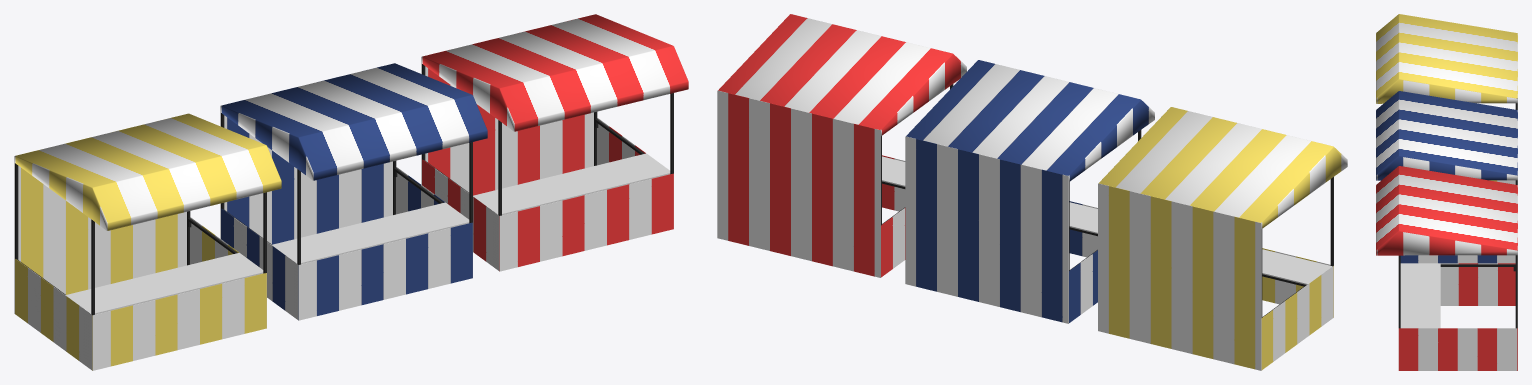
Rendered from Stall_model.fbx.
3 renders of one model, left to right at view 1: azimuth 30°, elevation 25°; view 2: azimuth 150°, elevation 25°; view 3: azimuth 270°, elevation 25°, orthographic. The views are drawn at different scales.
Parts seen in each view (by area): view 1: banner.005, banner, banner.008, banner.003, banner.001, banner.006, banner.004, banner.002, banner.007, table.001, table, table.002 (+4 smaller); view 2: banner.002, banner.007, banner.004, banner.005, banner, banner.008, banner.003, banner.001, banner.006, table.001, table, table.002; view 3: banner.008, banner.005, banner, banner.006, table.002, banner.001, Cube.032, Cube.031, Cube.030, banner.007.
Boxes of the visible parts, x1,y1,x2,y2 form: banner.005: (14, 113, 281, 230); banner: (220, 63, 487, 180); banner.008: (421, 14, 688, 131); banner.003: (15, 217, 266, 370); banner.001: (221, 166, 472, 320); banner.006: (422, 117, 673, 271); banner.004: (14, 156, 186, 313); banner.002: (220, 63, 395, 244); banner.007: (421, 14, 596, 195); table.001: (65, 252, 263, 314); table: (272, 202, 469, 264); table.002: (473, 153, 670, 215); banner.002: (905, 136, 1068, 323); banner.007: (717, 90, 880, 277); banner.004: (1098, 183, 1261, 370); banner.005: (1099, 107, 1347, 228); banner: (906, 60, 1154, 181); banner.008: (718, 14, 966, 135); banner.003: (1261, 248, 1333, 369); banner.001: (1069, 201, 1097, 322); banner.006: (881, 155, 905, 277); table.001: (1262, 249, 1332, 284); table: (1069, 202, 1097, 233); table.002: (882, 156, 905, 186); banner.008: (1376, 166, 1517, 255); banner.005: (1376, 14, 1517, 103); banner: (1376, 91, 1517, 180); banner.006: (1398, 263, 1517, 370); table.002: (1400, 263, 1440, 328); banner.001: (1400, 255, 1515, 263); Cube.032: (1440, 264, 1515, 271); Cube.031: (1515, 255, 1517, 328); Cube.030: (1398, 255, 1400, 328); banner.007: (1517, 185, 1517, 370).
Bounding box in the file's own units: 3985 × 1199 × 1100.
